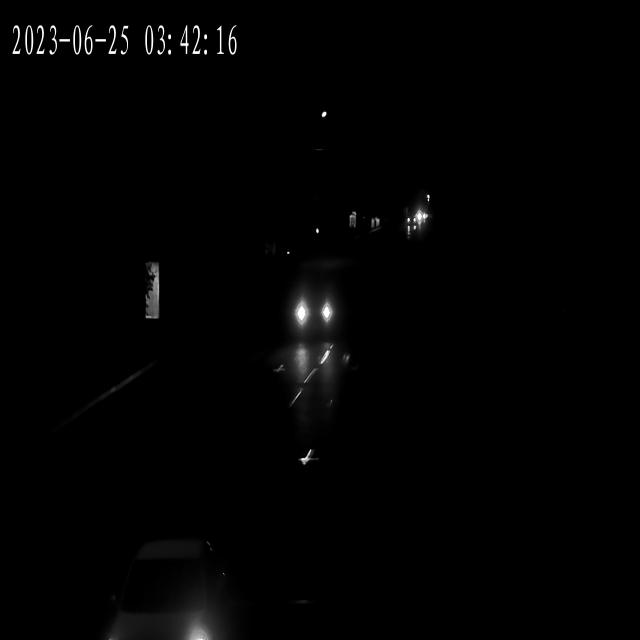Car: (96, 553, 221, 640), (285, 289, 339, 341), (406, 212, 418, 233)
